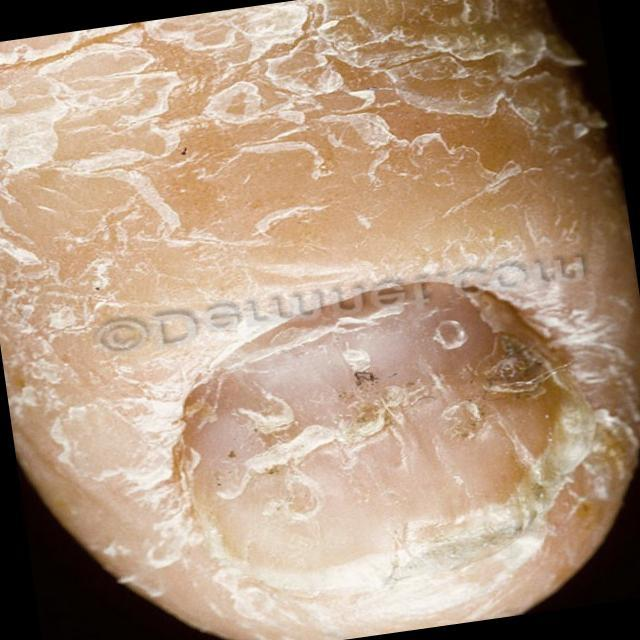Eczema: (0, 2, 637, 606)
